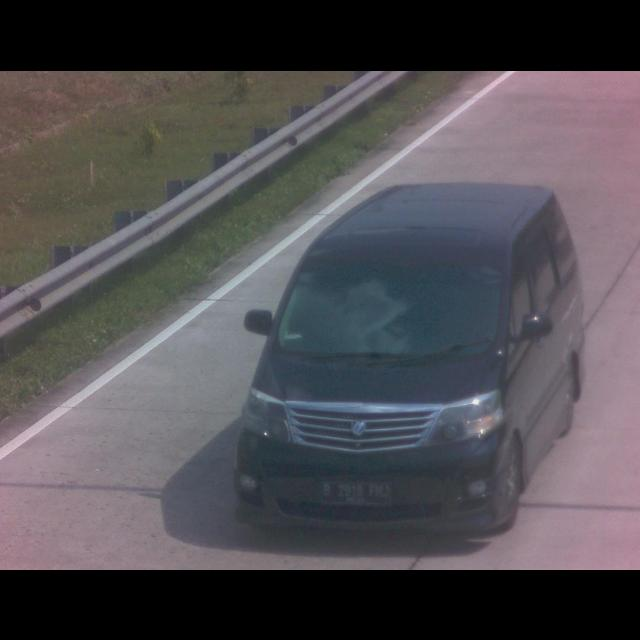plate: (320, 480, 396, 508)
